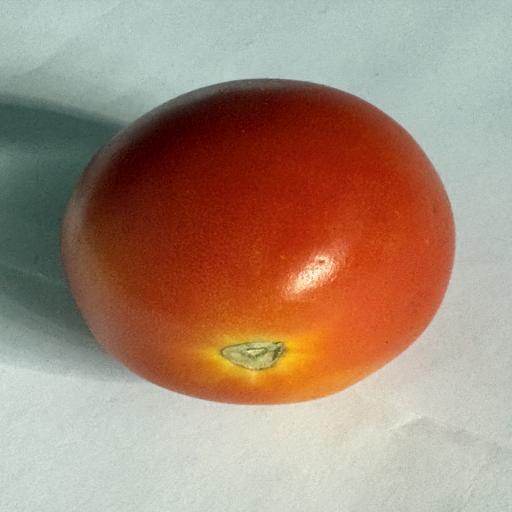ripe: (62, 79, 454, 404)
